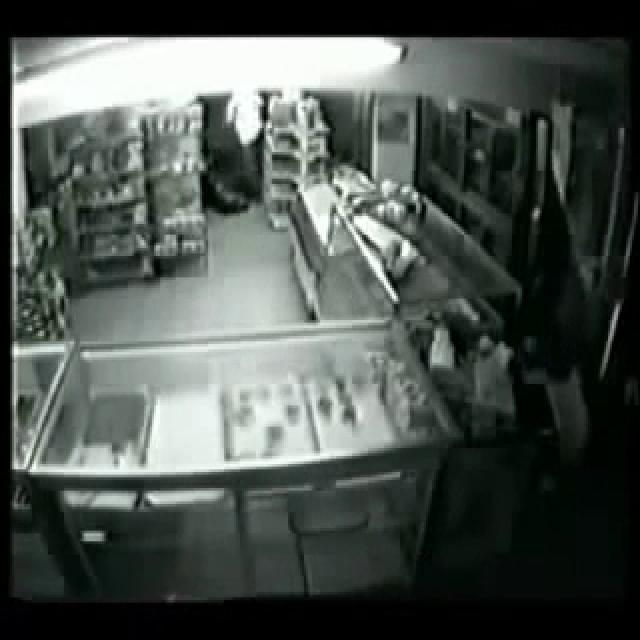shooting: (223, 88, 416, 431)
